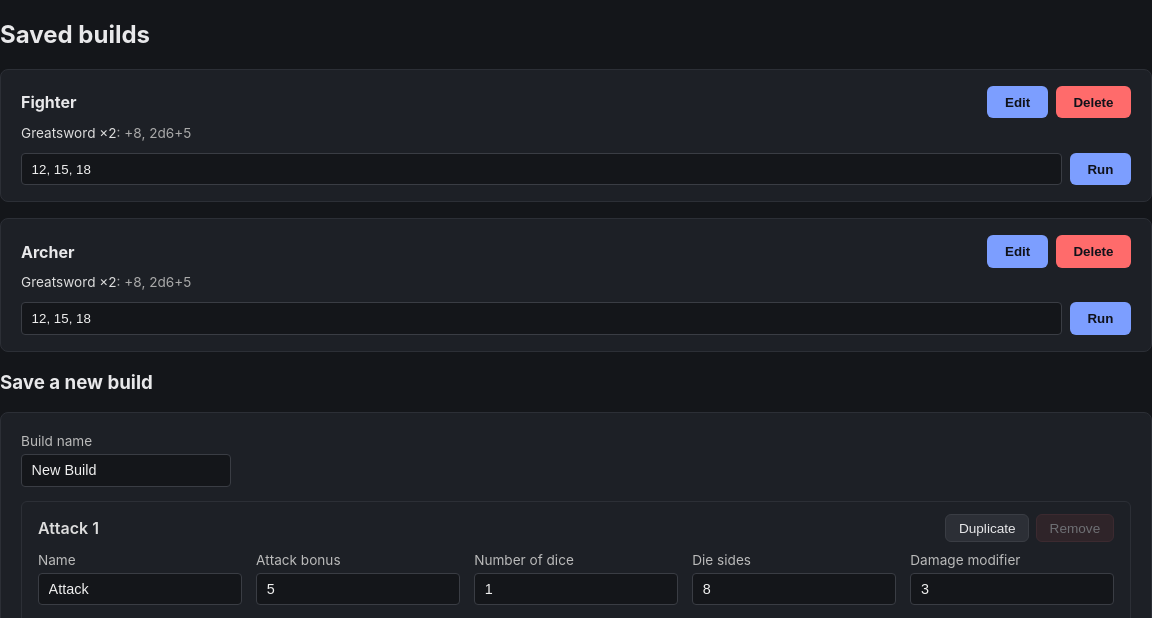
Test case: BuildsPanel › runs each build against its own AC list and keeps results per build
Expected: the text "Fighter" is shown, [21,92,76,112]
Replace the text in the field named "Target ACs for Archer" with "17, 19" at (541, 319), box [21,302,1062,335]
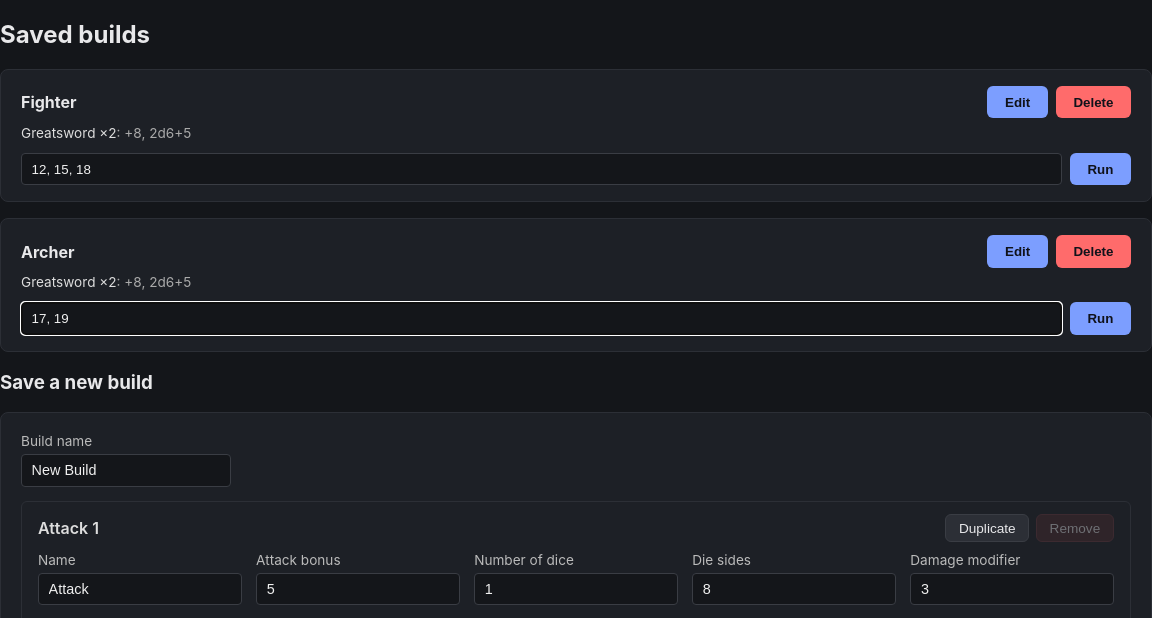
Click the 2nd button "Run".
click(1100, 319)  # box [1070,302,1131,335]
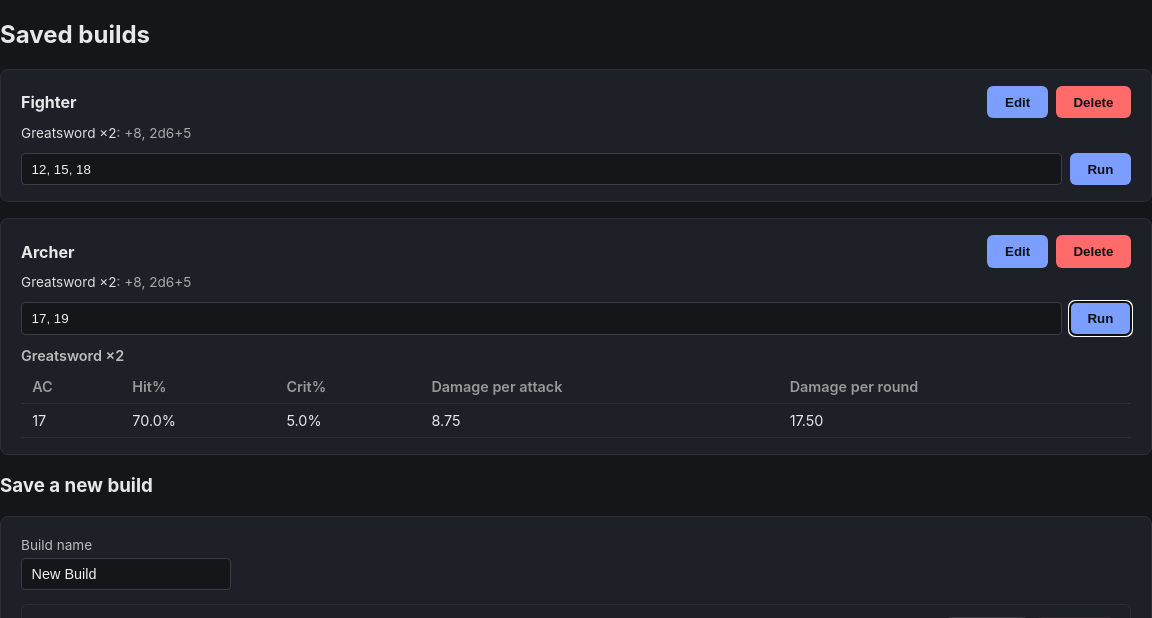
Expected: the 3rd text "Greatsword ×2" is shown, [21,347,124,364]
